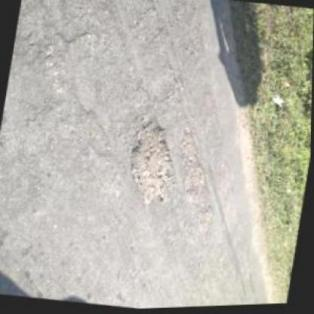Hueco: (121, 111, 186, 214), (172, 129, 216, 204), (195, 205, 216, 236)
